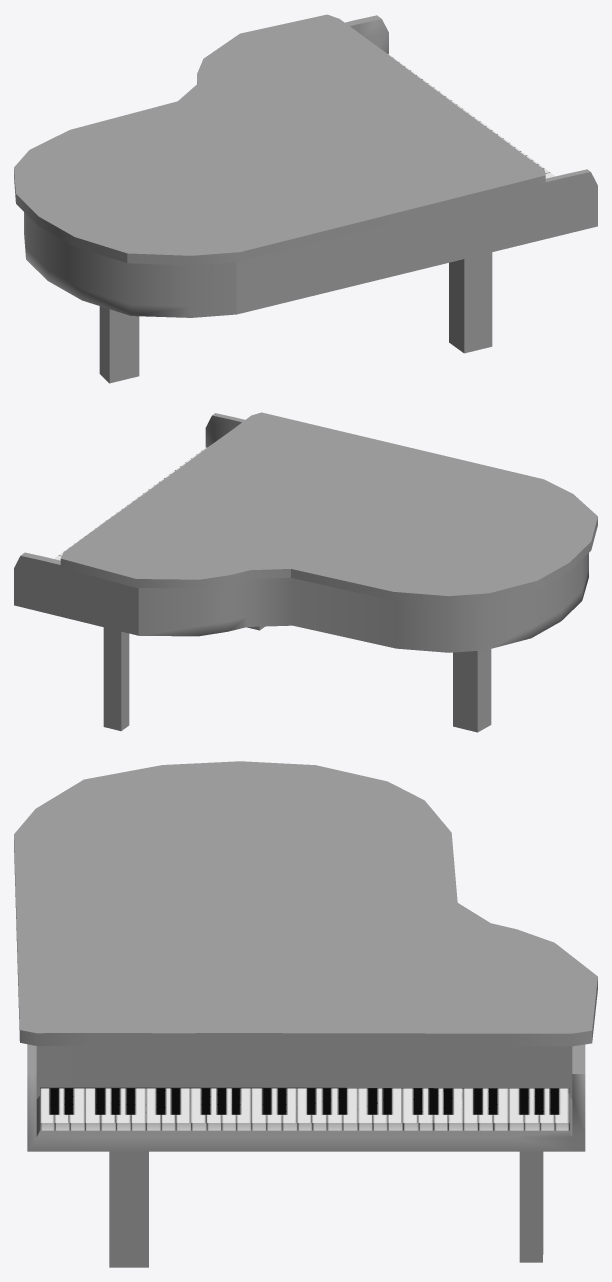
File: PIANO.fbx
The picture shows the model from 3 angles, top to bottom: view 1: azimuth 30°, elevation 25°; view 2: azimuth 150°, elevation 25°; view 3: azimuth 270°, elevation 25°; orthographic projection. The views are drawn at different scales.
Visible parts, largest first — view 1: pCube1; view 2: pCube1; view 3: pCube1.
Boxes of the visible parts, <box> form: pCube1: <box>14,14,597,383</box>; pCube1: <box>14,412,597,732</box>; pCube1: <box>14,761,597,1267</box>.
Bounding box in the file's own units: 4.13 × 1.58 × 3.35.
Materials: 2 (1 with a texture image).
